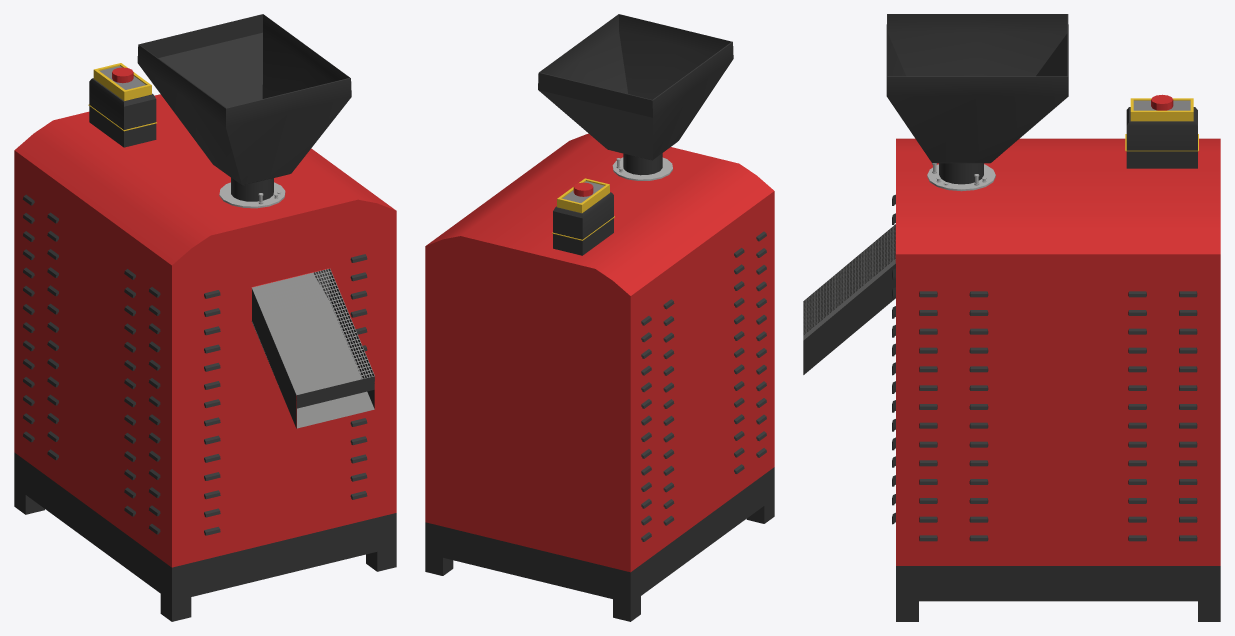
The model's file is pellet_machine.fbx.
The picture shows the model from 3 angles, left to right: view 1: azimuth 30°, elevation 25°; view 2: azimuth 150°, elevation 25°; view 3: azimuth 270°, elevation 25°; orthographic projection. The views are drawn at different scales.
Visible parts, largest first — view 1: pellet machine; view 2: pellet machine; view 3: pellet machine.
Boxes of the visible parts, left/top/right/bottom form: pellet machine: left=14, top=14, right=396, bottom=621; pellet machine: left=425, top=14, right=774, bottom=621; pellet machine: left=803, top=14, right=1220, bottom=621.
Size of the model in its own units: 72.03 by 150 by 109.
